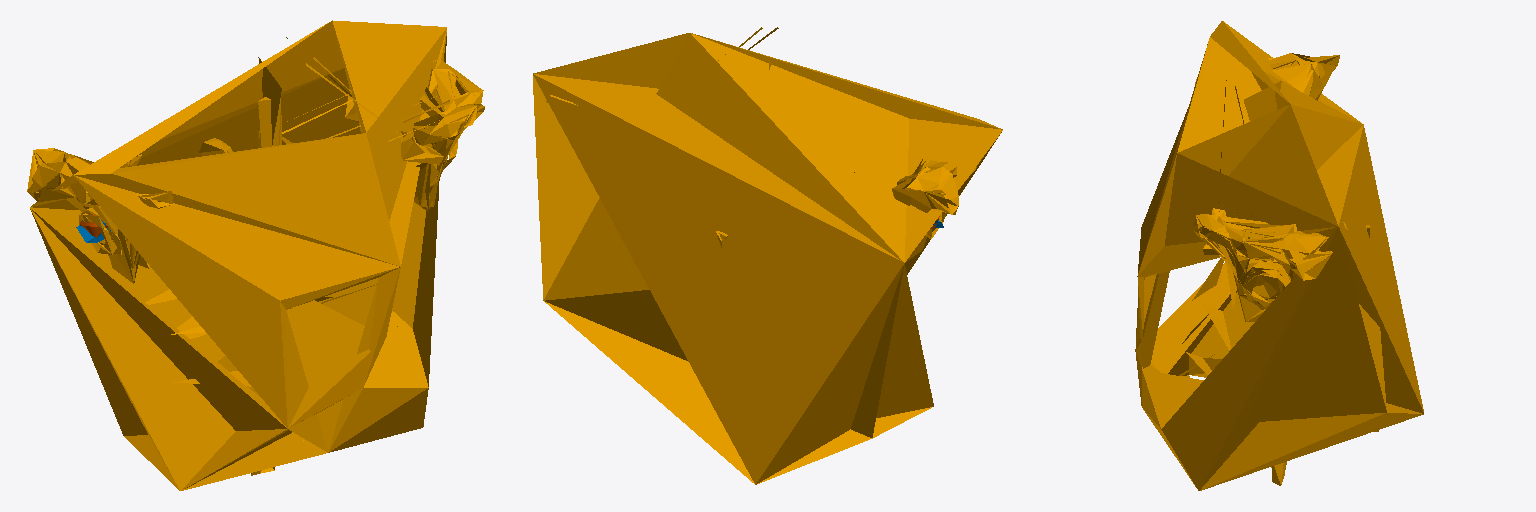
robot.urdf — right_arm:
<robot name="right_arm">
  <joint name="elbow_joint_0" type="revolute">
    <parent link="upper_arm" />
    <child link="elbow" />
    <origin rpy="0 0 0" xyz="1.1700e-03 -2.1000e-04 -3.1194e-01" />
    <axis xyz="-1  0  0" />
    <limit effort="1.0" lower="0.0" upper="1.0" velocity="10.0" />
  </joint>
  <joint name="elbow_joint_1" type="revolute">
    <parent link="elbow" />
    <child link="lower_arm" />
    <origin rpy="0 0 0" xyz="-0.00177  0      -0.089" />
    <axis xyz="1 0 0" />
    <limit effort="1.0" lower="0.0" upper="1.0" velocity="10.0" />
  </joint>
  <joint name="shoulder_right_axis0" type="revolute">
    <parent link="torso" />
    <child link="shoulder_right_link1" />
    <origin rpy="0 0 0" xyz="-4.4287e-01  2.1000e-04  2.4000e-04" />
    <axis xyz="0.97437  0      -0.22495" />
    <limit effort="1.0" lower="-3.14159265359" upper="3.14159265359" velocity="10.0" />
  </joint>
  <joint name="shoulder_right_axis1" type="revolute">
    <parent link="shoulder_right_link1" />
    <child link="shoulder_right_link2" />
    <origin rpy="0 0 0" xyz="0 0 0" />
    <axis xyz="0 -1  0" />
    <limit effort="1.0" lower="-3.14159265359" upper="3.14159265359" velocity="10.0" />
  </joint>
  <joint name="shoulder_right_axis2" type="revolute">
    <parent link="shoulder_right_link2" />
    <child link="upper_arm" />
    <origin rpy="0 0 0" xyz="0 0 0" />
    <axis xyz="-0.22495  0      -0.97437" />
    <limit effort="1.0" lower="-3.14159265359" upper="3.14159265359" velocity="10.0" />
  </joint>
  <link name="torso">
    <inertial>
      <mass value="14.620248282022308" />
      <origin rpy="0 0 0" xyz="-0.23566  0.00041 -0.05636" />
      <inertia ixx="0.23427531359205855" ixy="0.0014579355491117724" ixz="-0.19262693759836189" iyy="1.2900541406140884" iyz="-0.004143156810960102" izz="1.1150542050540775" />
    </inertial>
    <collision name="torso_collision">
      <origin rpy="0 0 0" xyz="-0.23566  0.00041 -0.05636" />
      <geometry>
        <mesh filename="package://robots/right_arm/meshes/collisions/torso.stl" scale="0.001 0.001 0.001" />
      </geometry>
    </collision>
    <visual name="torso_visual">
      <origin rpy="0 0 0" xyz="-0.23566  0.00041 -0.05636" />
      <geometry>
        <mesh filename="package://robots/right_arm/meshes/visuals/torso.stl" scale="0.001 0.001 0.001" />
      </geometry>
    </visual>
  </link>
  <link name="upper_arm">
    <inertial>
      <mass value="1.6107710429284596" />
      <origin rpy="0 0 0" xyz="-0.01776 -0.00075 -0.21082" />
      <inertia ixx="0.08039547528185673" ixy="-0.00044122263338615446" ixz="-0.15603847010888547" iyy="0.4210036019895847" iyz="-0.0007419455778243127" izz="0.3442627310424434" />
    </inertial>
    <collision name="upper_arm_collision">
      <origin rpy="0 0 0" xyz="-0.01776 -0.00075 -0.21082" />
      <geometry>
        <mesh filename="package://robots/right_arm/meshes/collisions/upper_arm.stl" scale="0.001 0.001 0.001" />
      </geometry>
    </collision>
    <visual name="upper_arm_visual">
      <origin rpy="0 0 0" xyz="-0.01776 -0.00075 -0.21082" />
      <geometry>
        <mesh filename="package://robots/right_arm/meshes/visuals/upper_arm.stl" scale="0.001 0.001 0.001" />
      </geometry>
    </visual>
  </link>
  <link name="elbow">
    <inertial>
      <mass value="0.035913480602683824" />
      <origin rpy="0 0 0" xyz="-0.00694  0.03025 -0.04363" />
      <inertia ixx="0.004589960085594564" ixy="0.0004888674766497429" ixz="-0.00572535532185871" iyy="0.011778430725057177" iyz="0.00038601178892672355" izz="0.007275132898623602" />
    </inertial>
    <collision name="elbow_collision">
      <origin rpy="0 0 0" xyz="-0.00694  0.03025 -0.04363" />
      <geometry>
        <mesh filename="package://robots/right_arm/meshes/collisions/elbow.stl" scale="0.001 0.001 0.001" />
      </geometry>
    </collision>
    <visual name="elbow_visual">
      <origin rpy="0 0 0" xyz="-0.00694  0.03025 -0.04363" />
      <geometry>
        <mesh filename="package://robots/right_arm/meshes/visuals/elbow.stl" scale="0.001 0.001 0.001" />
      </geometry>
    </visual>
  </link>
  <link name="lower_arm">
    <inertial>
      <mass value="2.0455605412131046" />
      <origin rpy="0 0 0" xyz="-0.00296 -0.00271 -0.1576" />
      <inertia ixx="0.6621894157798561" ixy="-0.002530770204603198" ixz="-0.5091607427935234" iyy="1.0696876913582016" iyz="-0.00405789227238752" izz="0.4093816108713452" />
    </inertial>
    <collision name="lower_arm_collision">
      <origin rpy="0 0 0" xyz="-0.00296 -0.00271 -0.1576" />
      <geometry>
        <mesh filename="package://robots/right_arm/meshes/collisions/lower_arm.stl" scale="0.001 0.001 0.001" />
      </geometry>
    </collision>
    <visual name="lower_arm_visual">
      <origin rpy="0 0 0" xyz="-0.00296 -0.00271 -0.1576" />
      <geometry>
        <mesh filename="package://robots/right_arm/meshes/visuals/lower_arm.stl" scale="0.001 0.001 0.001" />
      </geometry>
    </visual>
  </link>
  <link name="shoulder_right_link1">
    <inertial>
      <mass value="0.09036362653441249" />
      <origin rpy="0 0 0" xyz="0 0 0" />
      <inertia ixx="7.100858132936025e-06" ixy="8.490465260946267e-06" ixz="9.596855559470765e-06" iyy="0.01773118042040856" iyz="-4.597234499972153e-09" izz="0.01773117929134391" />
    </inertial>
    <collision name="shoulder_right_link1_collision">
      <origin rpy="0 0 0" xyz="0 0 0" />
      <geometry>
        <mesh filename="package://robots/right_arm/meshes/collisions/shoulder_right_link1.stl" scale="0.001 0.001 0.001" />
      </geometry>
    </collision>
    <visual name="shoulder_right_link1_visual">
      <origin rpy="0 0 0" xyz="0 0 0" />
      <geometry>
        <mesh filename="package://robots/right_arm/meshes/visuals/shoulder_right_link1.stl" scale="0.001 0.001 0.001" />
      </geometry>
    </visual>
  </link>
  <link name="shoulder_right_link2">
    <inertial>
      <mass value="0.007113171768014984" />
      <origin rpy="0 0 0" xyz="0 0 0" />
      <inertia ixx="1.0326132814597322e-07" ixy="6.683456619403606e-07" ixz="7.554376096350275e-07" iyy="0.0013952931977171974" iyz="-3.6188143294127446e-10" izz="0.0013952931088403884" />
    </inertial>
    <collision name="shoulder_right_link2_collision">
      <origin rpy="0 0 0" xyz="0 0 0" />
      <geometry>
        <mesh filename="package://robots/right_arm/meshes/collisions/shoulder_right_link2.stl" scale="0.001 0.001 0.001" />
      </geometry>
    </collision>
    <visual name="shoulder_right_link2_visual">
      <origin rpy="0 0 0" xyz="0 0 0" />
      <geometry>
        <mesh filename="package://robots/right_arm/meshes/visuals/shoulder_right_link2.stl" scale="0.001 0.001 0.001" />
      </geometry>
    </visual>
  </link>

    <joint name="sensor_link_joint" type="fixed">
          <origin xyz="0 0 0" rpy="1.57 0 1.57"/>
          <parent link="lower_arm"/>
          <child link="sensor_link"/>
  </joint>

  <link name="sensor_link"/>
   <link name="world" />
    <joint name="world_joint" type="fixed">
            <parent link="world" />
            <child link = "torso" />
            <origin xyz="0.0 0.0 0.0" rpy="0.0 0.0 0.0" />
    </joint>
</robot>

--- Facts derived from the render (not from the file) ---
3 views of the same robot in one strip: view 1: azimuth 30°, elevation 25°; view 2: azimuth 150°, elevation 25°; view 3: azimuth 270°, elevation 25° (orthographic).
Robot: right_arm — 8 links, 7 joints (5 revolute, 2 fixed); root link world; default pose: all joints at 0.
Visible links, largest first — view 1: torso; view 2: torso; view 3: torso.
Boxes of the visible links, x1,y1,x2,y2 form: torso: (27, 20, 484, 490); torso: (533, 27, 1002, 484); torso: (1135, 21, 1423, 490).
Size in the robot's own frame: 0.534 by 0.3199 by 0.5023 metres.
Meshes: 6 distinct files referenced, 3 mesh visuals loaded (3 binary STL); not drawn: 3 (reference not matched to a file when rendering).